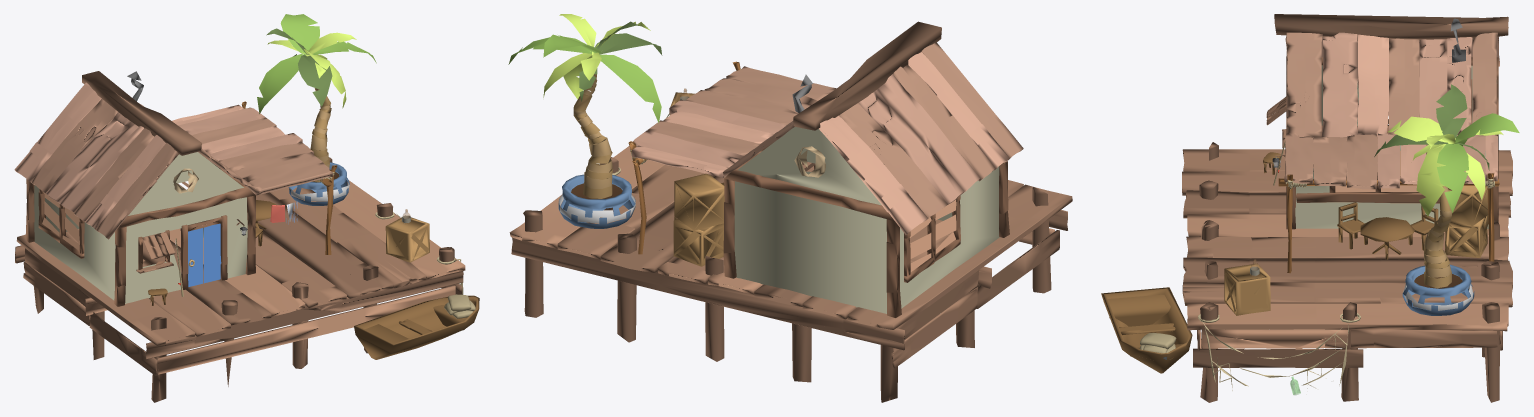
The model's file is sea_shack.glb.
3 views of the same model, side by side, from view 1: azimuth 30°, elevation 25°; view 2: azimuth 150°, elevation 25°; view 3: azimuth 270°, elevation 25° (orthographic). The views are drawn at different scales.
Parts seen in each view (by area): view 1: Small window support_Wood dark_0, Plank.006_Wood normal_0, Wall_Walls_0, Roof_Roof dark_0, Window blankets_Wood light_0, House supports_Wood darker_0, Roof_Roof medium_0, Roof_Roof light_0, Chair_Wood boat_0, Palm leafs_Palm leaf medium_0, Door_Wooden door blue_0, Crate1_Wood box_0 (+8 smaller); view 2: Wall_Walls_0, Plank.006_Wood normal_0, Small window support_Wood dark_0, Roof_Roof dark_0, Roof_Roof medium_0, Roof_Roof light_0, House supports_Wood darker_0, Window blankets_Wood light_0, Crate1_Wood box_0, Palm leafs_Palm leaf medium_0, Palm pot_Palm pot blue_0, Palm leafs_Palm leaf light_0 (+6 smaller); view 3: Small window support_Wood dark_0, Plank.006_Wood normal_0, Roof_Roof dark_0, Window blankets_Wood light_0, Roof_Roof medium_0, Chair_Wood boat_0, Crate1_Wood box_0, Roof_Roof light_0, Wall_Walls_0, Palm leafs_Palm leaf light_0, House supports_Wood darker_0, Palm leafs_Palm leaf medium_0 (+8 smaller).
Part boxes in pixels (x1,y1,x2,y2): Small window support_Wood dark_0: [25, 71, 463, 402]; Plank.006_Wood normal_0: [15, 187, 426, 345]; Wall_Walls_0: [34, 137, 247, 303]; Roof_Roof dark_0: [31, 99, 332, 239]; Window blankets_Wood light_0: [42, 180, 465, 374]; House supports_Wood darker_0: [25, 139, 255, 306]; Roof_Roof medium_0: [46, 107, 302, 212]; Roof_Roof light_0: [14, 82, 284, 229]; Chair_Wood boat_0: [148, 200, 479, 359]; Palm leafs_Palm leaf medium_0: [257, 14, 376, 113]; Door_Wooden door blue_0: [188, 223, 221, 286]; Crate1_Wood box_0: [385, 217, 429, 262]; Wall_Walls_0: [734, 127, 999, 313]; Plank.006_Wood normal_0: [511, 162, 1072, 368]; Small window support_Wood dark_0: [523, 21, 1067, 402]; Roof_Roof dark_0: [648, 42, 1023, 217]; Roof_Roof medium_0: [633, 74, 980, 205]; Roof_Roof light_0: [632, 52, 1009, 234]; House supports_Wood darker_0: [723, 134, 1009, 317]; Window blankets_Wood light_0: [509, 146, 1054, 294]; Crate1_Wood box_0: [669, 92, 724, 266]; Palm leafs_Palm leaf medium_0: [508, 34, 661, 123]; Palm pot_Palm pot blue_0: [558, 174, 635, 228]; Palm leafs_Palm leaf light_0: [543, 14, 650, 99]; Small window support_Wood dark_0: [1183, 14, 1512, 402]; Plank.006_Wood normal_0: [1182, 96, 1512, 350]; Roof_Roof dark_0: [1284, 32, 1497, 189]; Window blankets_Wood light_0: [1187, 112, 1508, 348]; Roof_Roof medium_0: [1322, 32, 1485, 188]; Chair_Wood boat_0: [1101, 152, 1438, 373]; Crate1_Wood box_0: [1224, 186, 1488, 315]; Roof_Roof light_0: [1321, 34, 1499, 184]; Wall_Walls_0: [1295, 65, 1488, 228]; Palm leafs_Palm leaf light_0: [1388, 116, 1503, 216]; House supports_Wood darker_0: [1286, 56, 1498, 229]; Palm leafs_Palm leaf medium_0: [1437, 113, 1519, 212].
Size of what is drawn, in the model's own units: 1459 by 975 by 1337.
